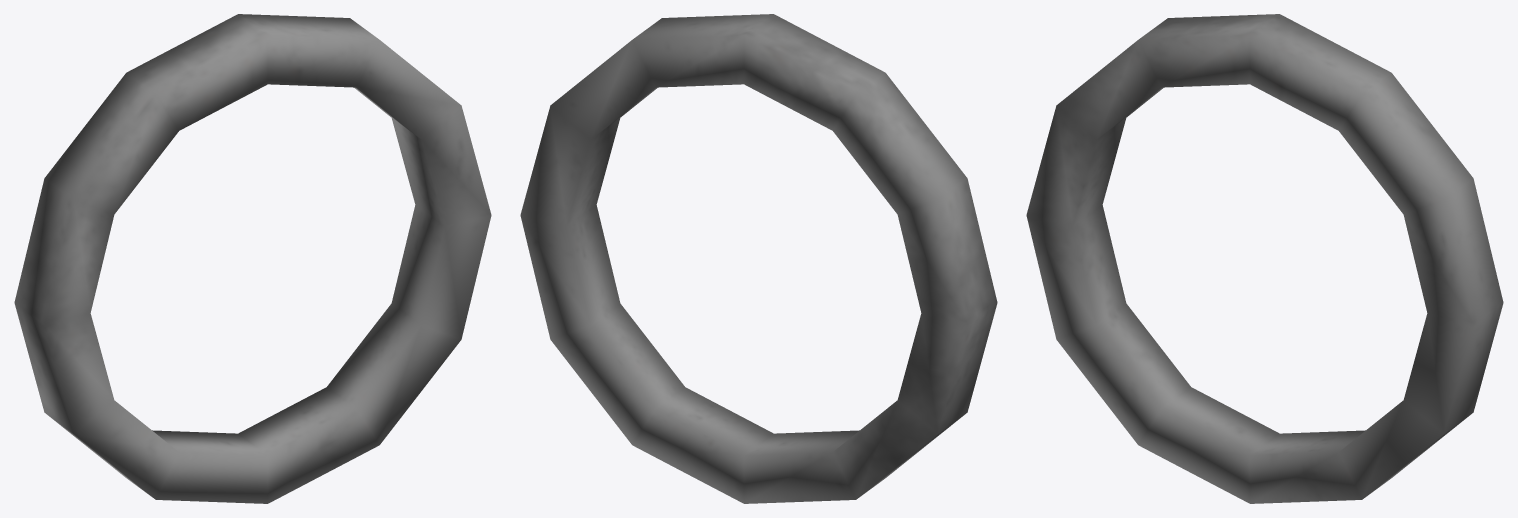
Rendered from Buckle_Ring.fbx.
3 views of the same model, side by side, from view 1: azimuth 30°, elevation 25°; view 2: azimuth 150°, elevation 25°; view 3: azimuth 330°, elevation 25° (orthographic).
Parts seen in each view (by area): view 1: Buckle_Ring_LOD0; view 2: Buckle_Ring_LOD0; view 3: Buckle_Ring_LOD0.
Boxes of the visible parts, left/top/right/bottom form: Buckle_Ring_LOD0: left=14, top=14, right=491, bottom=503; Buckle_Ring_LOD0: left=520, top=14, right=997, bottom=503; Buckle_Ring_LOD0: left=1026, top=14, right=1503, bottom=503.
Size of what is drawn, in the model's own units: 29.22 by 29.22 by 3.39.
